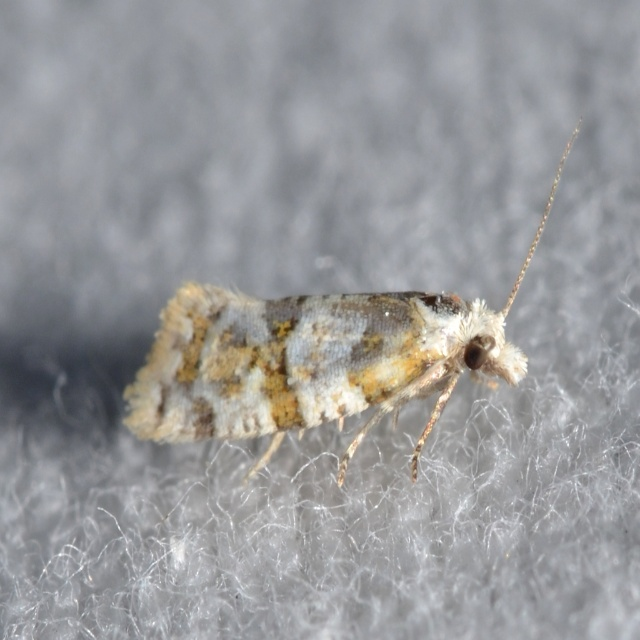Moths and butterflies: (120, 115, 590, 495)
